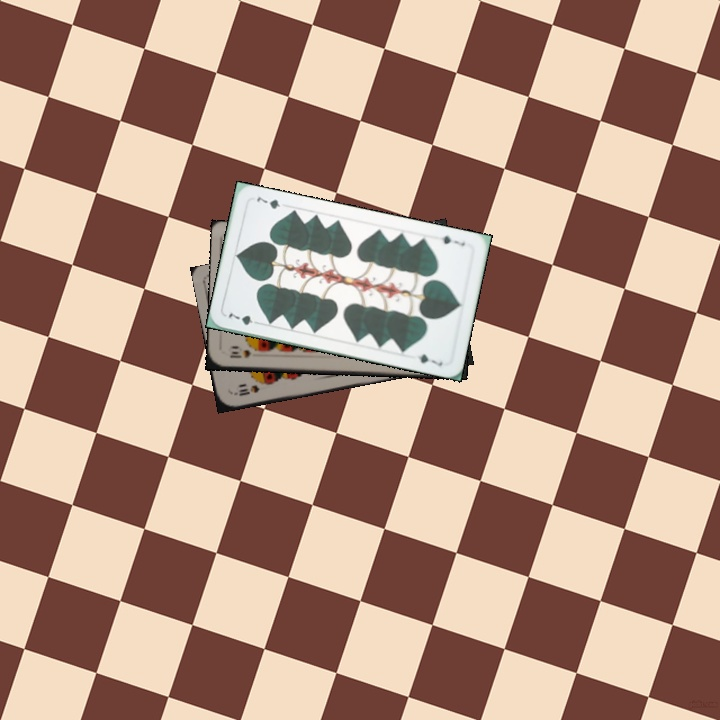G7: (224, 309, 263, 328), (433, 231, 468, 248)
S10: (230, 381, 262, 398), (225, 346, 254, 361)
